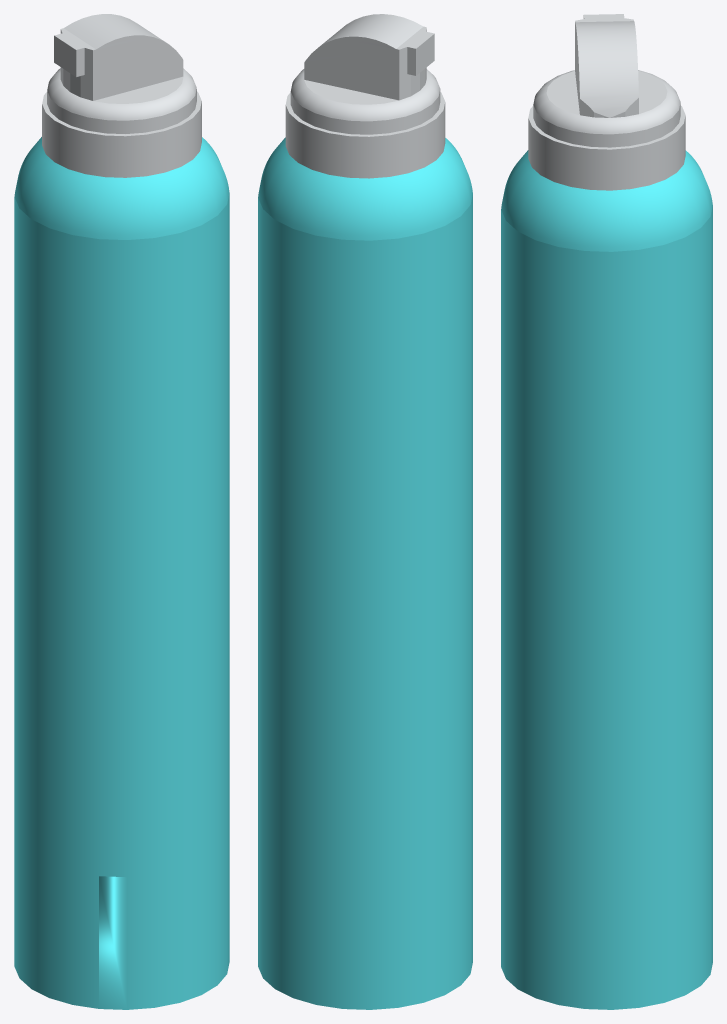
Rendered from sprey.fbx.
3 views of the same model, side by side, from view 1: azimuth 30°, elevation 25°; view 2: azimuth 150°, elevation 25°; view 3: azimuth 270°, elevation 25° (orthographic).
Visible parts, largest first — view 1: Group_003; view 2: Group_003; view 3: Group_003.
Boxes of the visible parts, x1,y1,x2,y2 form: Group_003: (14,14,229,1009); Group_003: (258,14,472,1009); Group_003: (501,14,712,1009).
Size of the model in its own units: 1.37 by 6.6 by 1.37.
